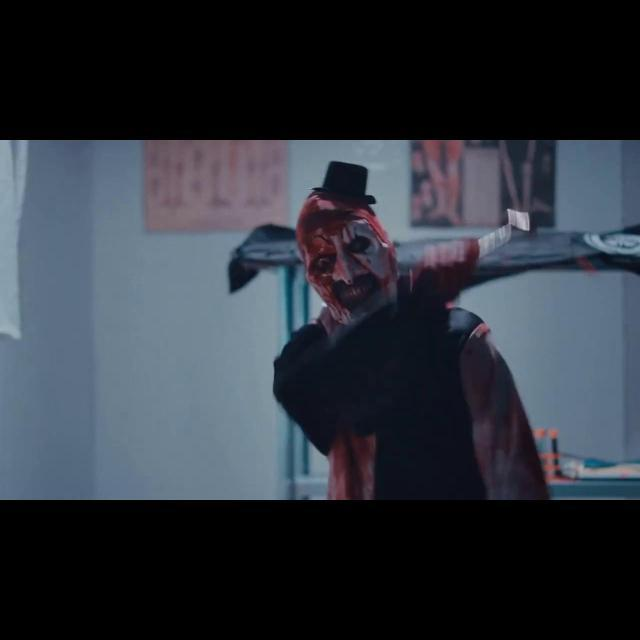blood: (223, 162, 640, 500)
